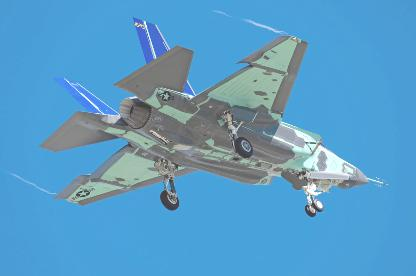F22: (40, 17, 390, 217)
